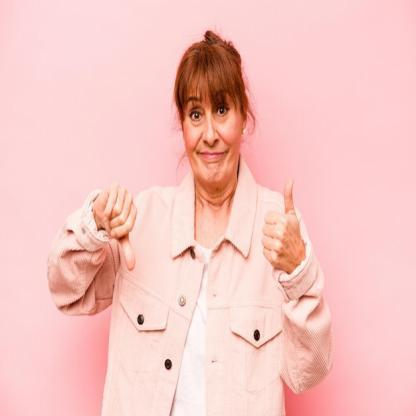thumb_down: (98, 177, 138, 274)
thumb_up: (260, 174, 304, 274)
